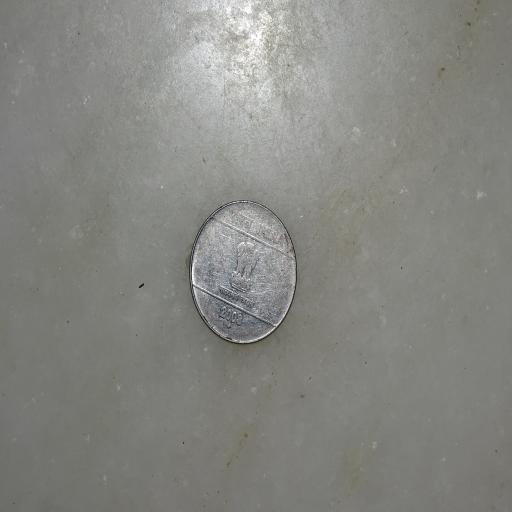rupee2: (184, 195, 304, 351)
